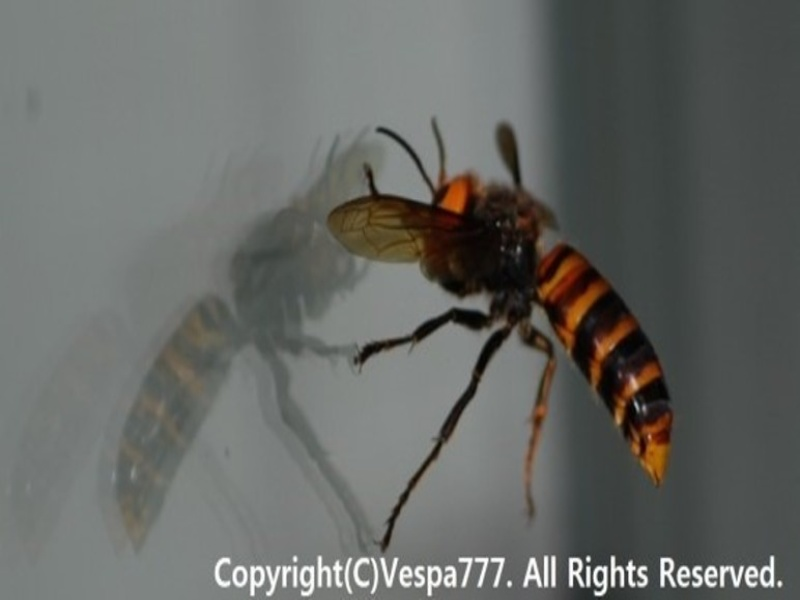asian_giant_hornet: (369, 114, 676, 483)
